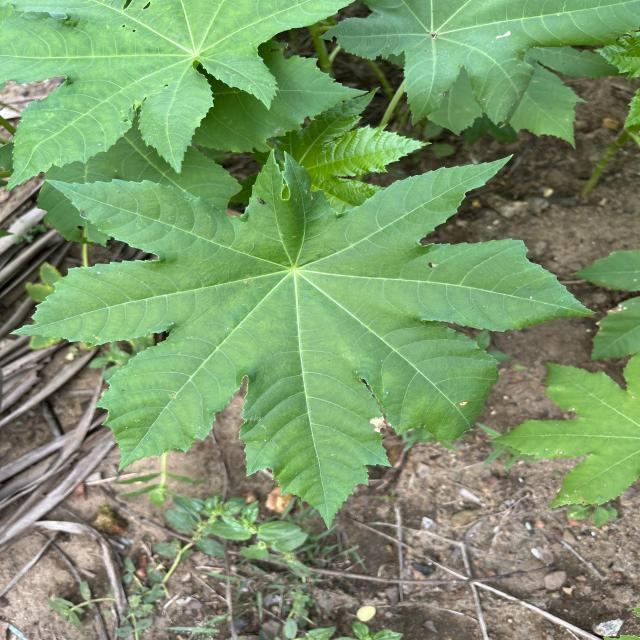Ricinus communis linn: (4, 137, 604, 534)
